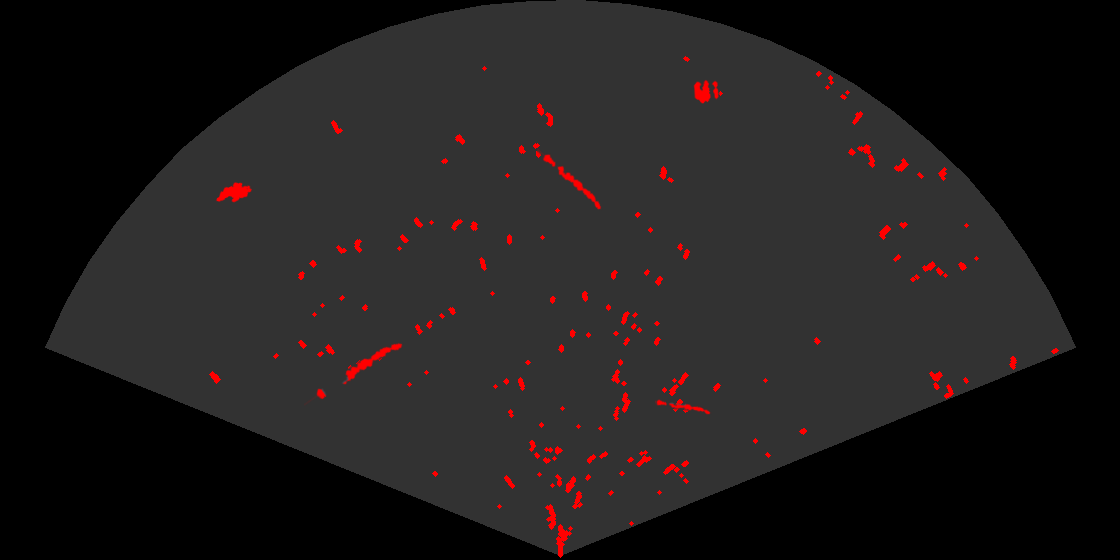AUV: (214, 180, 254, 204)
ball: (692, 78, 720, 105)
chain: (304, 341, 404, 407), (537, 147, 603, 211), (655, 398, 712, 416)
